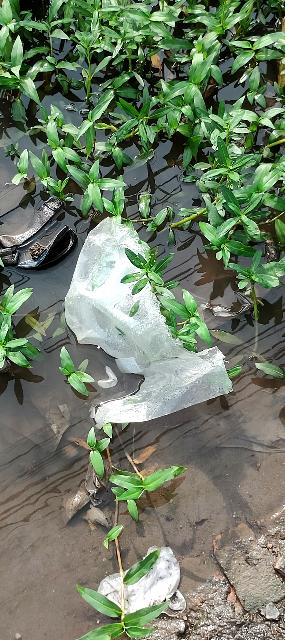polythene: (65, 220, 243, 431)
